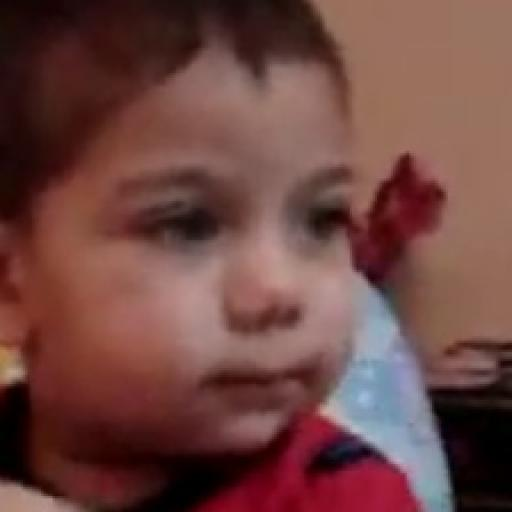Autism: (6, 0, 468, 498)
